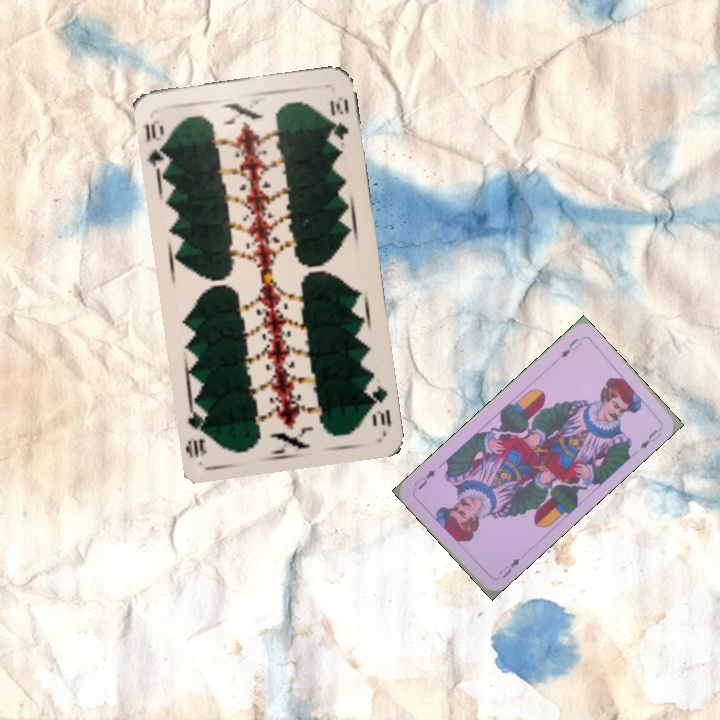EU: (494, 554, 523, 580), (556, 334, 584, 360)
G10: (140, 116, 173, 172), (365, 381, 394, 431)
